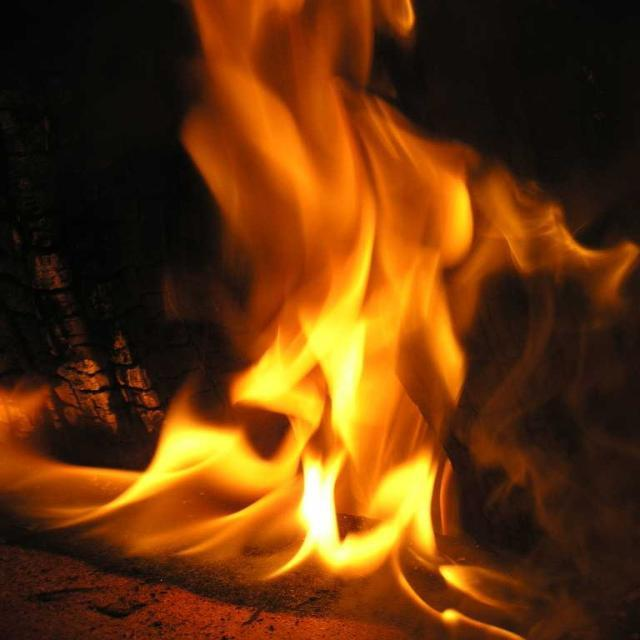Fire: (160, 36, 536, 528)
